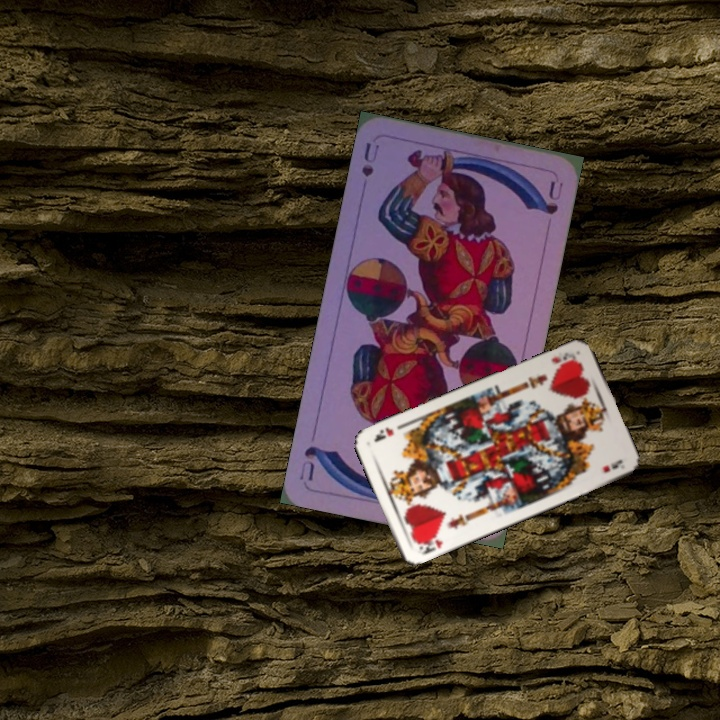HK: (413, 531, 445, 557), (547, 348, 576, 370)
SU: (357, 138, 382, 180)
